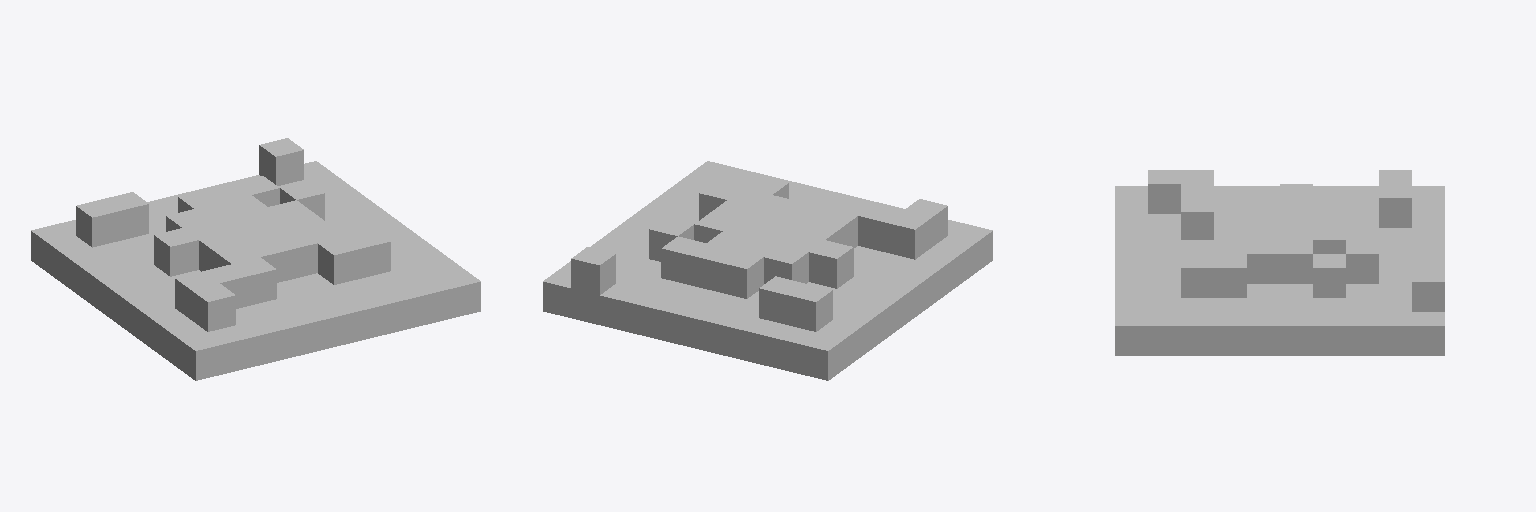
Rendered from Pod Radar.obj.
The picture shows the model from 3 angles: view 1: azimuth 30°, elevation 25°; view 2: azimuth 150°, elevation 25°; view 3: azimuth 270°, elevation 25°; orthographic projection.
Parts seen in each view (by area): view 1: object 1; view 2: object 1; view 3: object 1.
Part boxes in pixels (bbox=[...]): object 1: bbox=[31, 138, 480, 380]; object 1: bbox=[543, 161, 992, 380]; object 1: bbox=[1115, 170, 1444, 355].
Size of the model in its own units: 1 by 0.2 by 1.